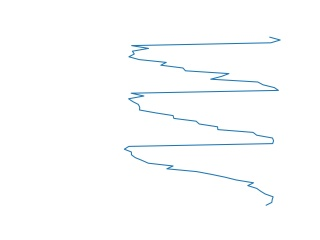distributaryMouthBar: (124, 35, 283, 210)
